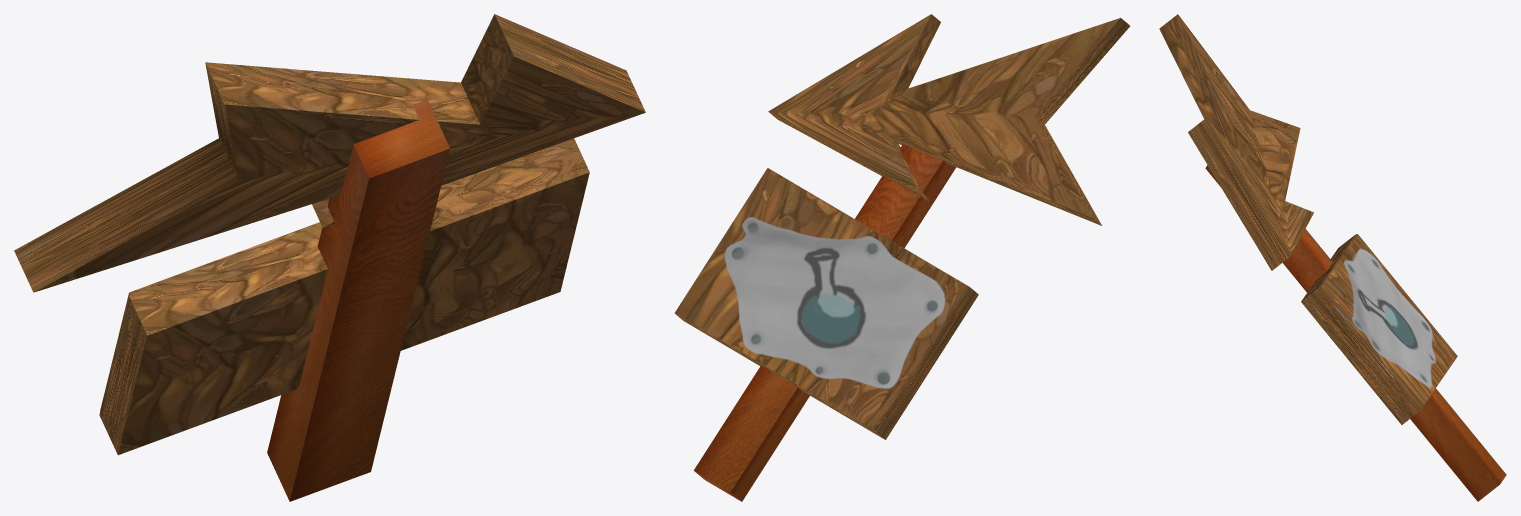
File: Panel.fbx
The picture shows the model from 3 angles, left to right: view 1: azimuth 30°, elevation 25°; view 2: azimuth 150°, elevation 25°; view 3: azimuth 270°, elevation 25°; orthographic projection. The views are drawn at different scales.
Visible parts, largest first — view 1: Cube_2, Cube_1, Cube, Cube_3; view 2: Cube_3, Cube_2, Cube, Cube_1; view 3: Cube_2, Cube_3, Cube, Cube_1.
Part boxes in pixels (bbox=[...]): Cube_2: bbox=[14, 14, 645, 292]; Cube_1: bbox=[99, 138, 589, 455]; Cube: bbox=[267, 99, 450, 501]; Cube_3: bbox=[100, 222, 320, 411]; Cube_3: bbox=[675, 168, 967, 430]; Cube_2: bbox=[768, 14, 1129, 225]; Cube: bbox=[694, 144, 956, 501]; Cube_1: bbox=[674, 168, 978, 439]; Cube_2: bbox=[1159, 14, 1313, 270]; Cube_3: bbox=[1319, 234, 1457, 410]; Cube: bbox=[1205, 165, 1506, 501]; Cube_1: bbox=[1301, 234, 1456, 424].
Bounding box in the file's own units: 186 × 207 × 171.
Materials: 3 (3 with a texture image).
